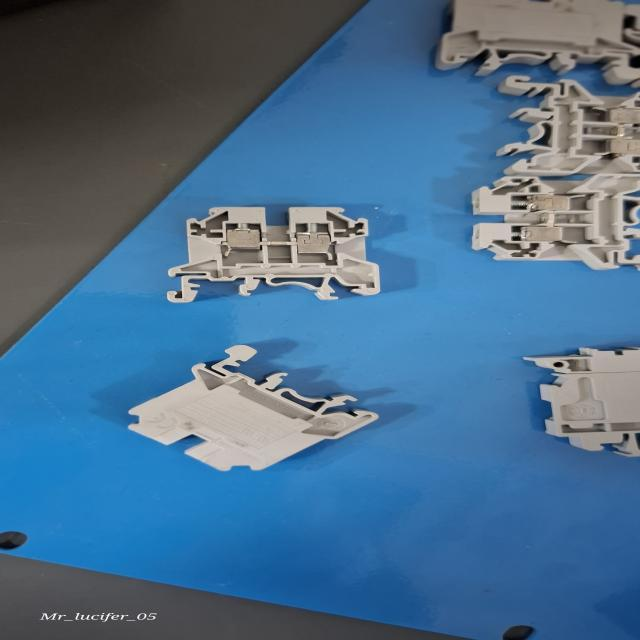Inverted: (122, 340, 388, 478)
Pass: (160, 202, 390, 312), (464, 167, 640, 274), (462, 74, 640, 179)
